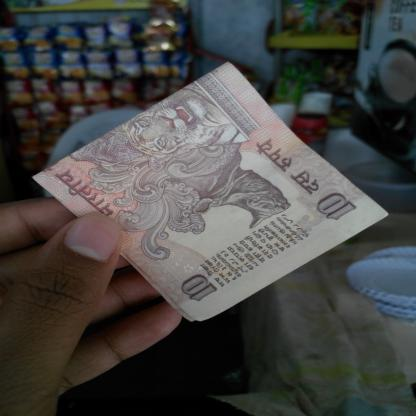Old10Back: (29, 61, 390, 324)
